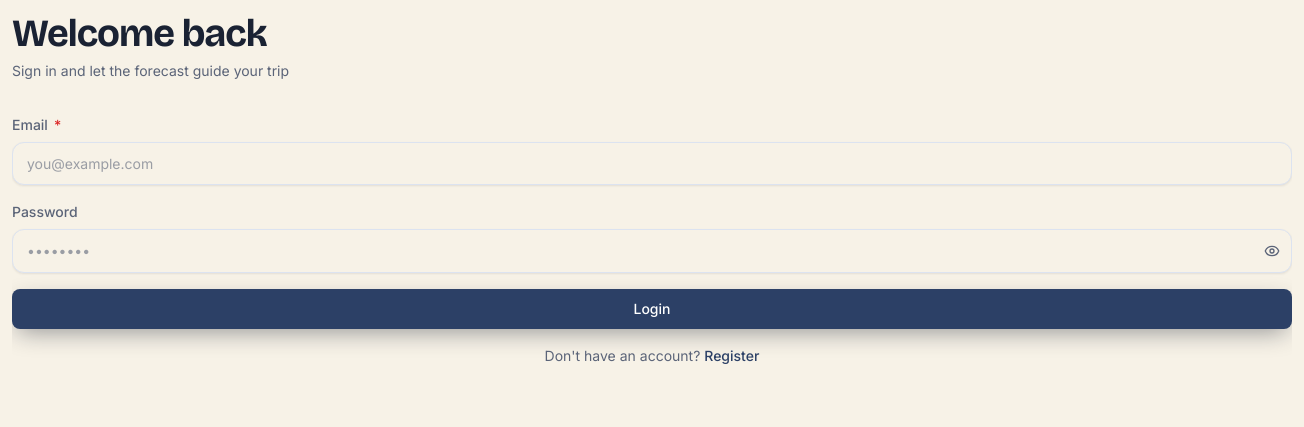
Scenario: shows "invalid email or password" for a 401
In the field labelled "Email *": point(652, 163) [12,142,1292,185], type "user@example.com"
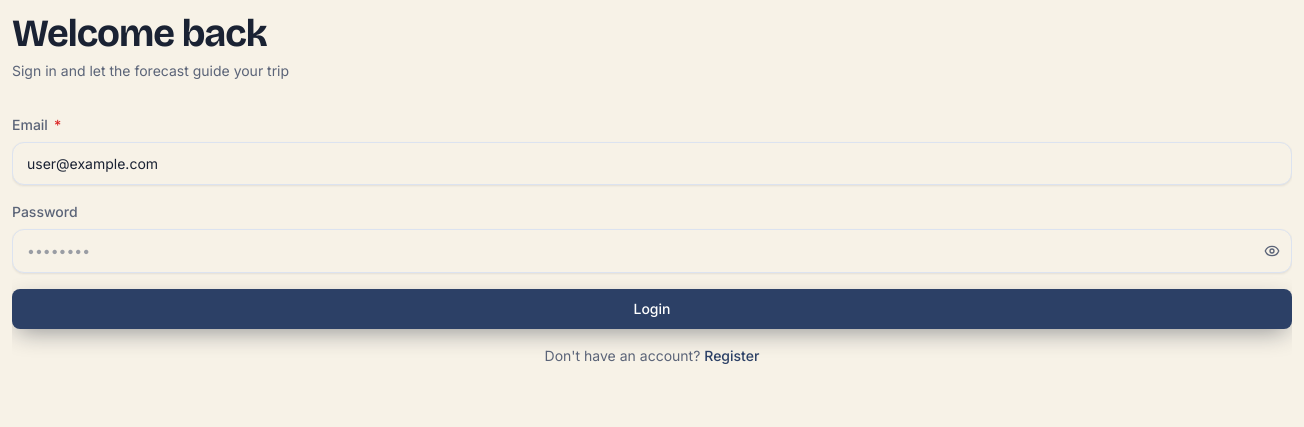
In the password field labelled "Password": point(652, 251) [12,229,1292,273], type "wrongpass"
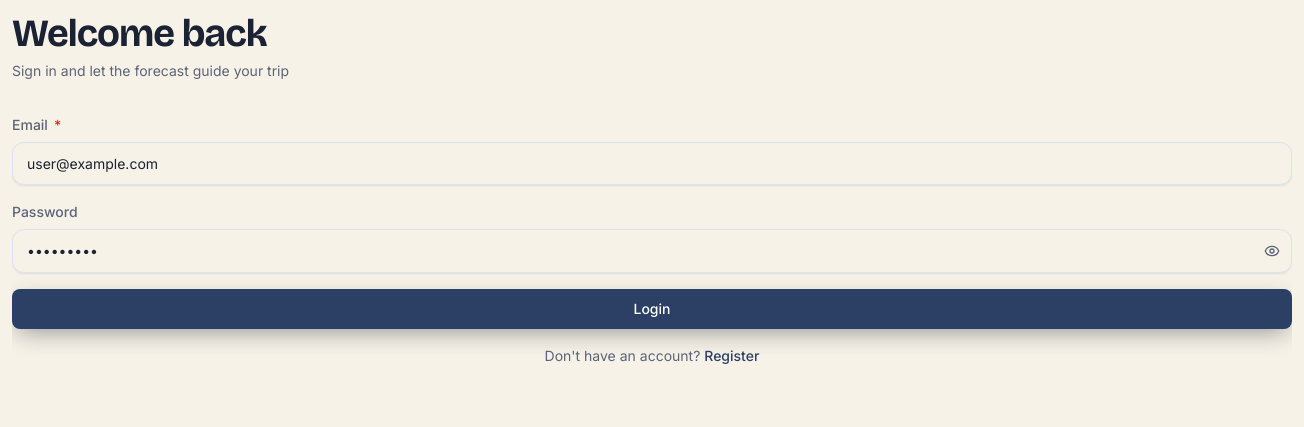
Click the button "Login": point(652, 309) [12,289,1292,329]
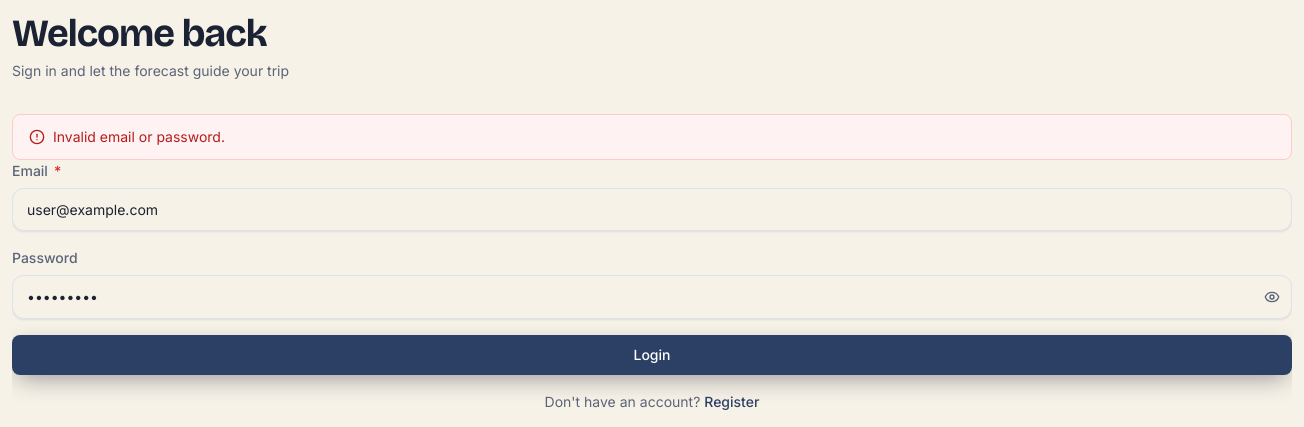
expect the text "Invalid email or password." is shown: met, box [53,127,225,147]
